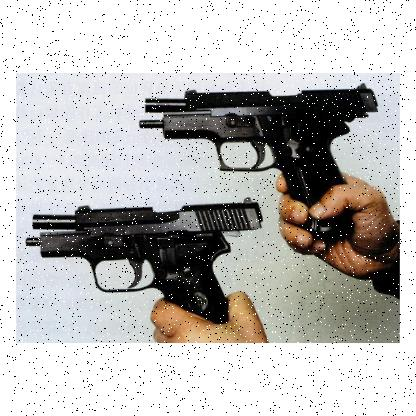gun: (138, 84, 376, 249), (29, 193, 261, 343)
